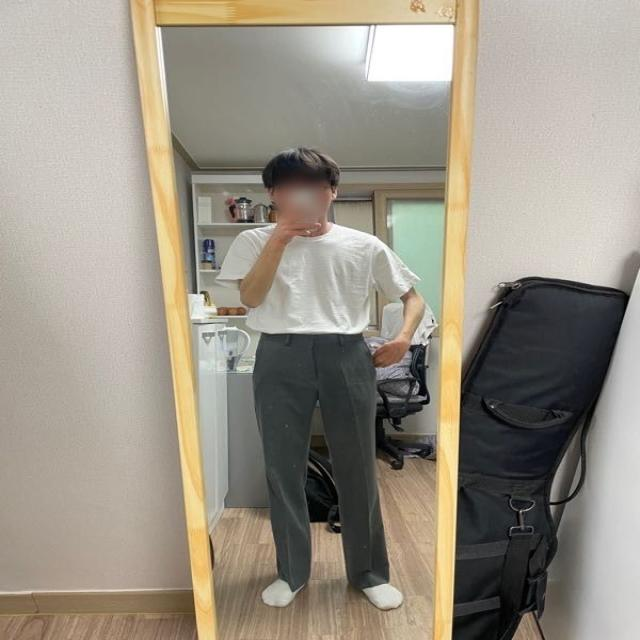shortsleeve: (215, 223, 417, 334)
slacks: (252, 331, 391, 593)
